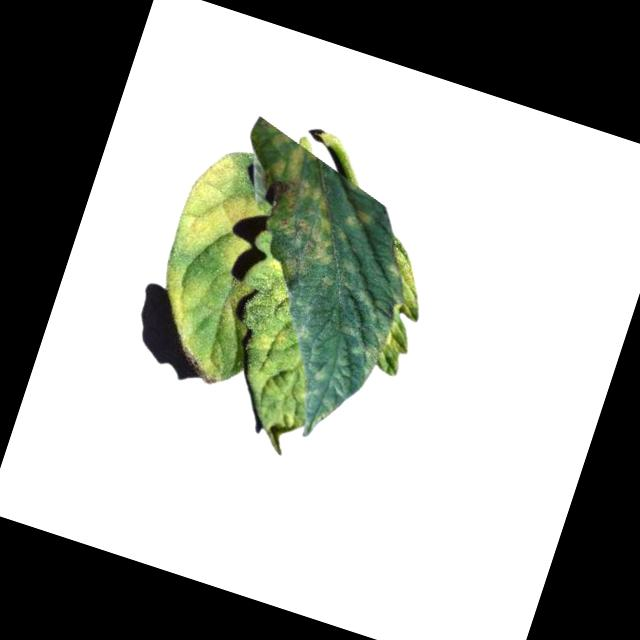Leaf_Mold: (225, 126, 363, 291), (162, 142, 274, 272), (146, 261, 212, 338), (246, 314, 291, 359)
